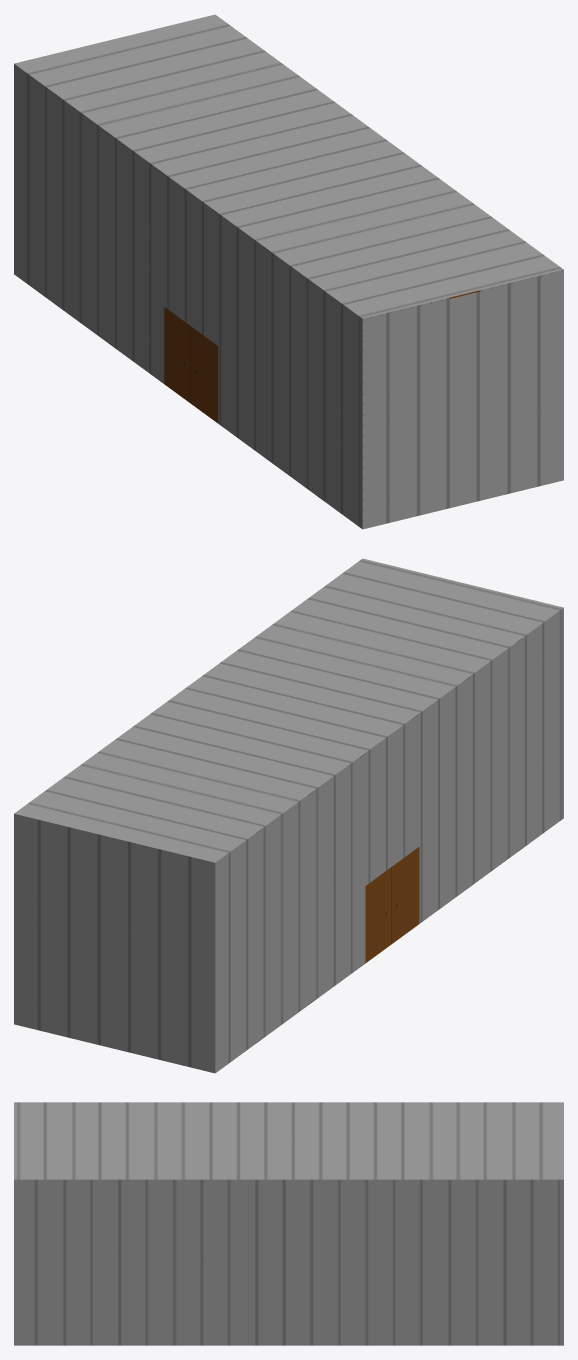
Rendered from supply_depot.dae.
The picture shows the model from 3 angles, top to bottom: view 1: azimuth 30°, elevation 25°; view 2: azimuth 150°, elevation 25°; view 3: azimuth 270°, elevation 25°; orthographic projection. The views are drawn at different scales.
Visible parts, largest first — view 1: Cube; view 2: Cube; view 3: Cube.
Boxes of the visible parts, <box> form: Cube: <box>14,14,563,529</box>; Cube: <box>14,558,563,1073</box>; Cube: <box>14,1102,563,1345</box>.
Size of the model in its own units: 2 by 6 by 2.
Materials: 1 (1 with a texture image).
